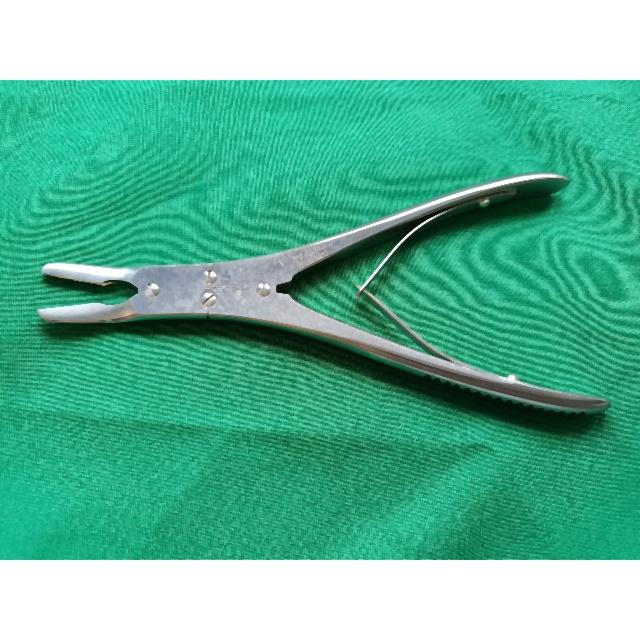gubia: (37, 174, 608, 418)
